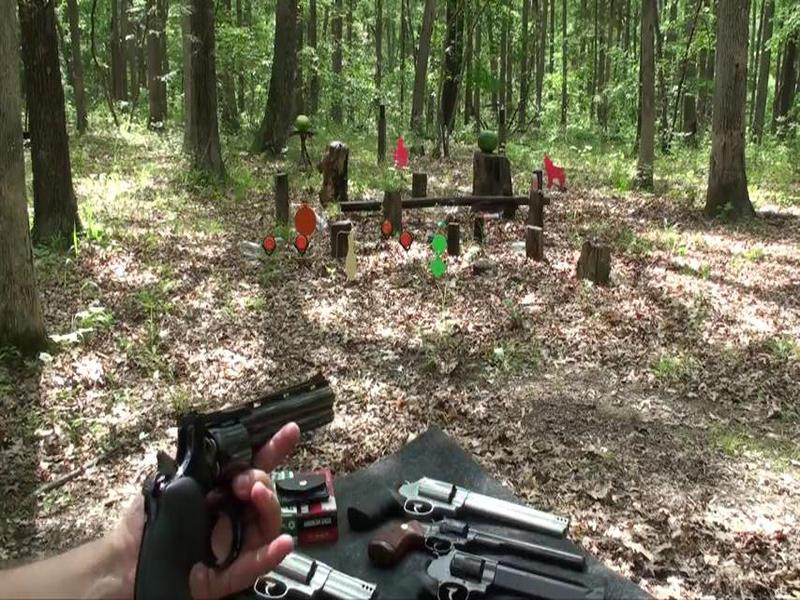Revolver: (136, 355, 346, 600)
